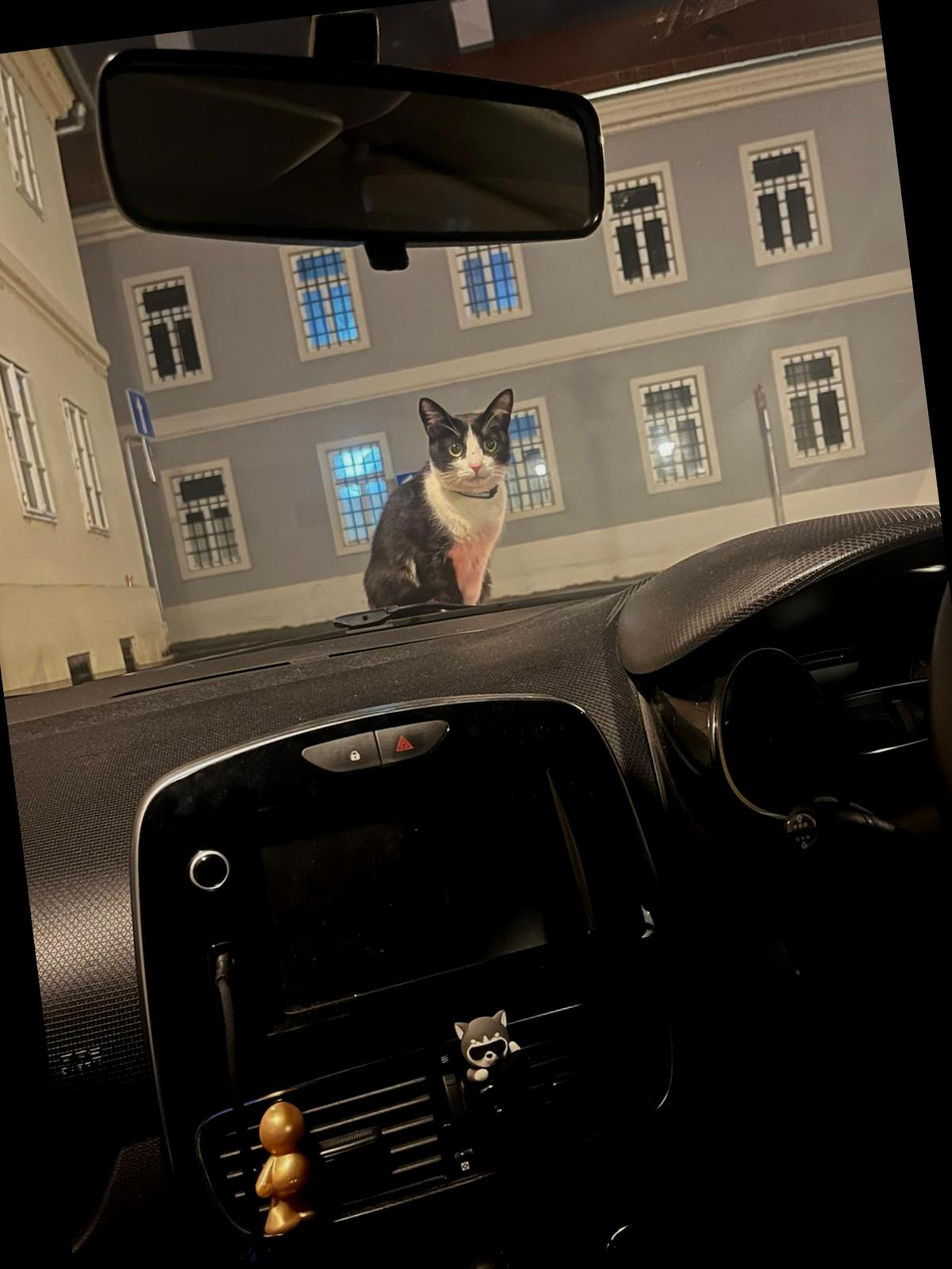macka: (343, 387, 537, 617)
